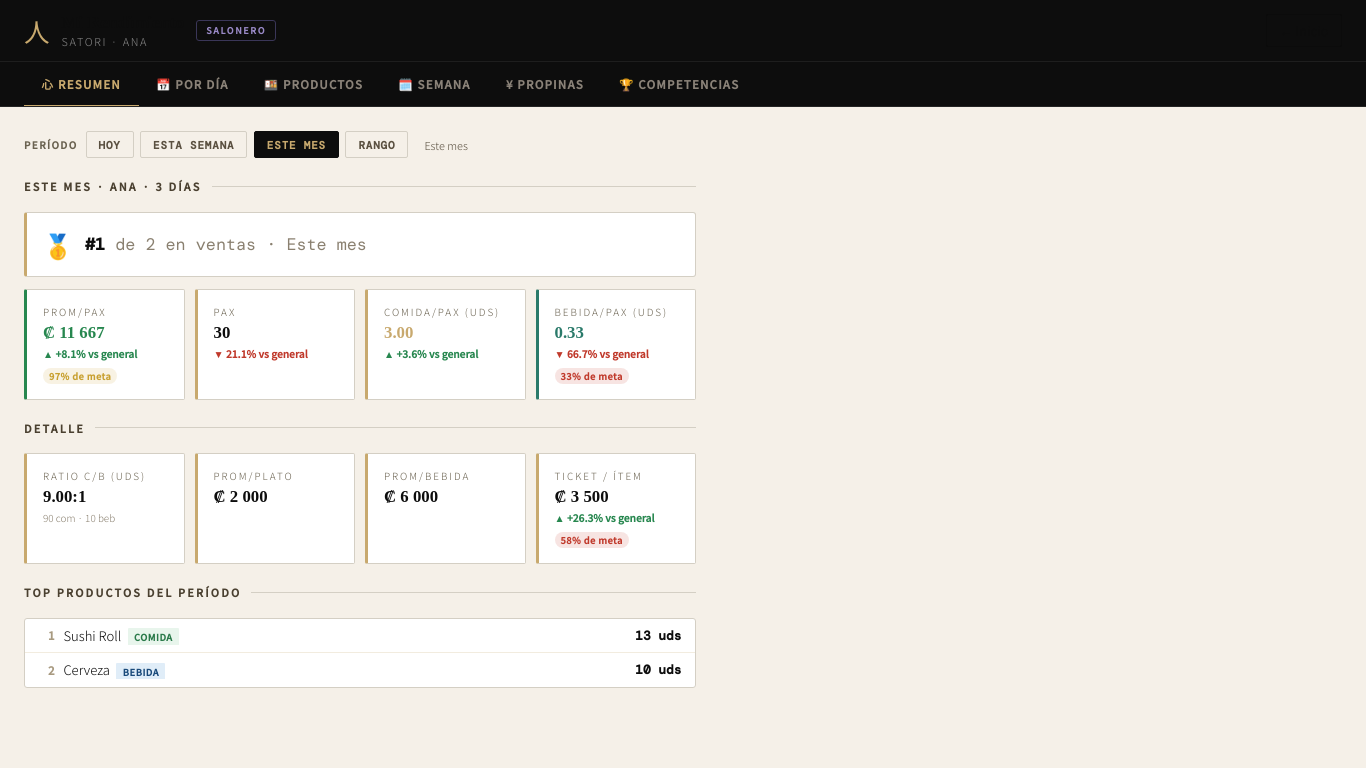
Test case: MiRendimiento · render (salonero con match) › Competencias lista la competencia del empleado
Click the text with class "cd-nav-tab" showing "🏆 Competencias" at [679, 84], box [619, 76, 739, 92]
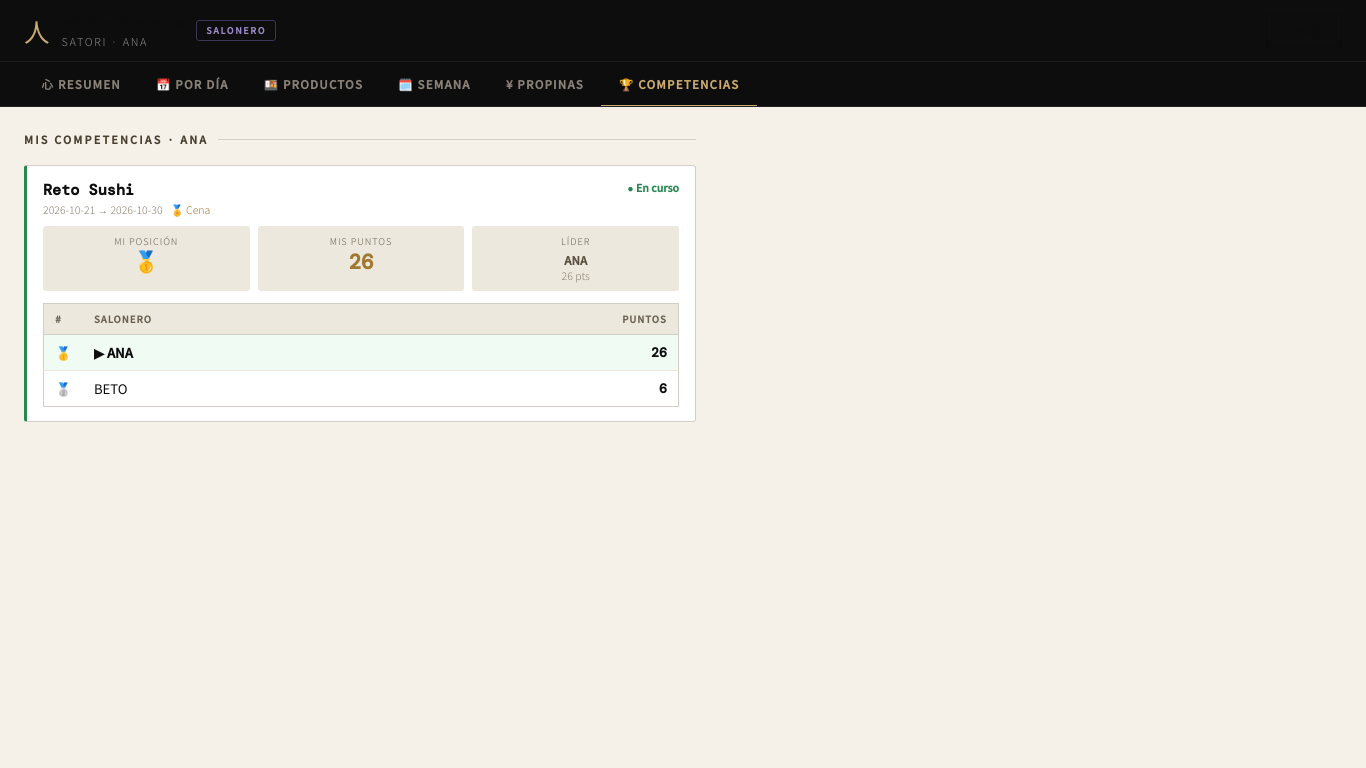
Expected: the text "Reto Sushi" is shown, [43, 180, 134, 200]
